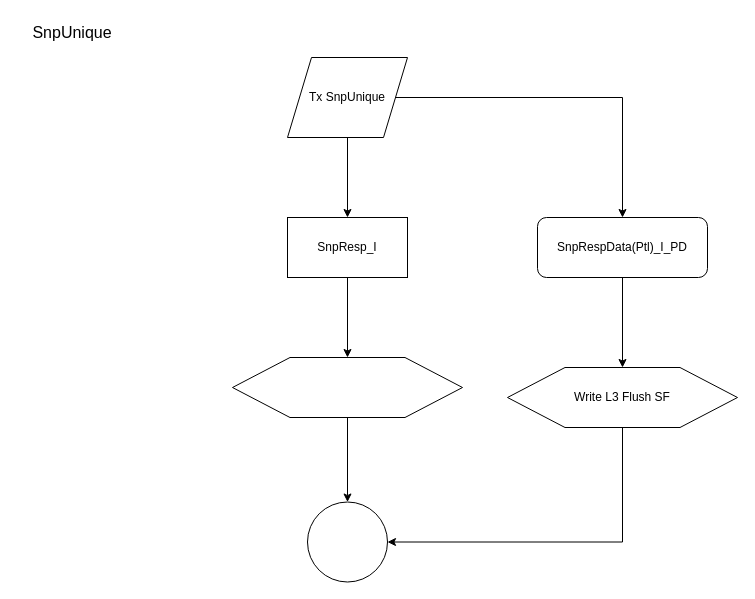
Some shapes in this 755 by 599 pixel diagram are drawn without their labels. The box of each missing label's shape, as (x1, y1, x2, y2) in pixels:
exit: (306, 501, 388, 582)
Flush SF: (232, 356, 462, 418)
